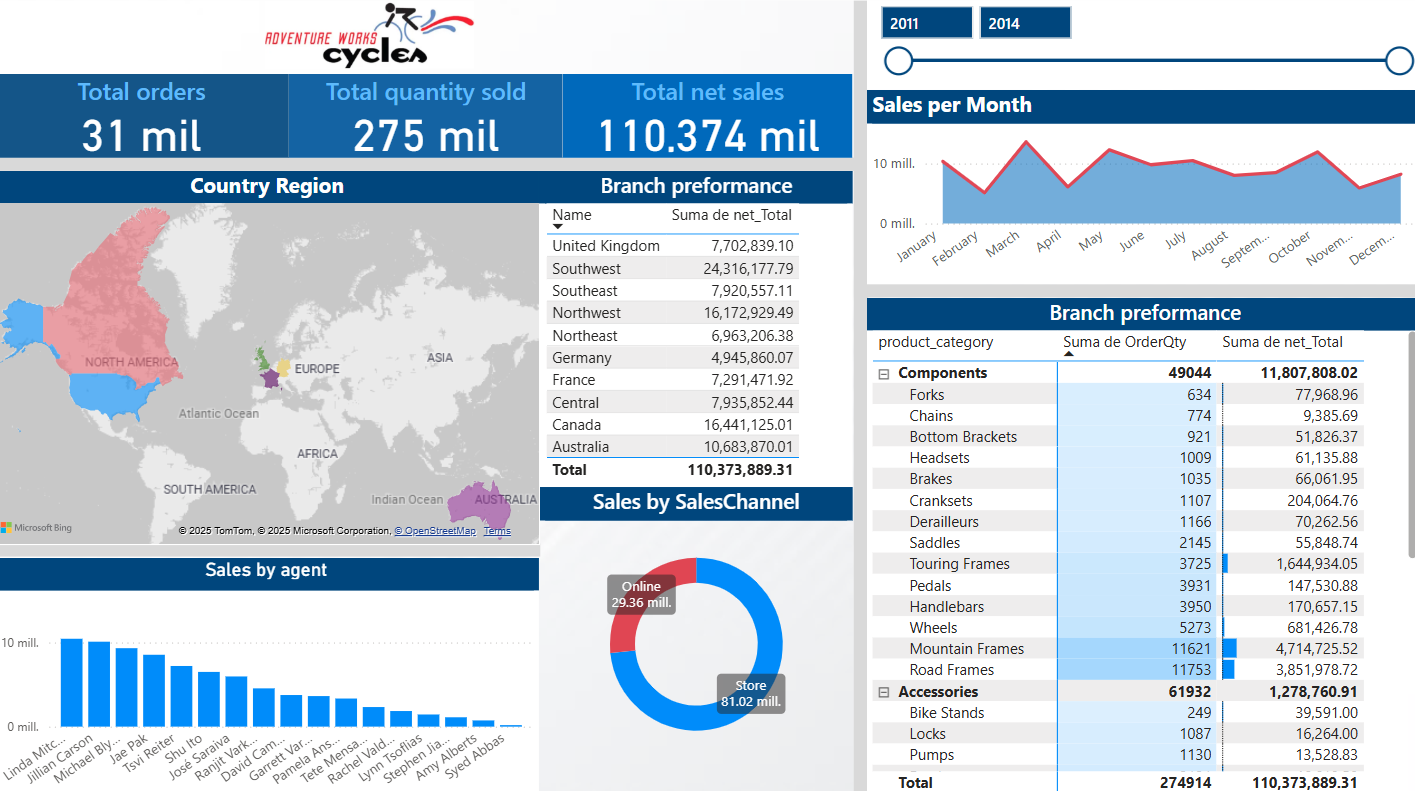

The page's visual inventory and layout, read from the dashboard file:
{"tool":"powerbi","page":{"name":"Página 1","canvas":[1280,720],"ordinal":0},"visuals":[{"type":"image","box":[0,0,1280.2,719.8],"z":0},{"type":"card","title":"Total orders","fields":{"Values":["Count(sales_orders.SalesOrderID)"]},"box":[0,70.8,264.2,75.5],"z":1000},{"type":"card","title":"Total net sales","fields":{"Values":["Sum(sales_orders.net_Total)"]},"box":[509.4,70.8,259.4,75.5],"z":2000},{"type":"filledMap","title":"Country Region","fields":{"Category":["sales_territories.CountryRegionCode"]},"box":[0,157.5,489,335],"z":3000},{"type":"donutChart","title":"Sales by SalesChannel","fields":{"Y":["Sum(sales_orders.net_Total)"],"Category":["sales_orders.SalesChannel"]},"box":[488.7,440.6,280,256.6],"z":4000},{"type":"tableEx","title":"Branch preformance","fields":{"Values":["sales_territories.Name","Sum(sales_orders.net_Total)"]},"box":[488.7,157.5,280,283],"z":5000},{"type":"clusteredColumnChart","title":"Sales by agent","fields":{"Category":["employees.Full_name"],"Y":["Sum(sales_orders.net_Total)"]},"box":[0,503.8,487.7,216],"z":6000},{"type":"pivotTable","title":"Branch preformance","fields":{"Rows":["products.product_category","products.product_subcategory"],"Values":["Sum(sales_orders.OrderQty)","Sum(sales_orders.net_Total)"]},"box":[782.1,271.7,498.1,448.1],"z":7000},{"type":"card","title":"Total quantity sold","fields":{"Values":["Sum(sales_orders.OrderQty)"]},"box":[264.2,70.8,245.3,75.5],"z":8000},{"type":"areaChart","title":"Sales per Month","fields":{"Category":["sales_orders.OrderDate.Variación.Date Hierarchy.Month","sales_orders.OrderDate.Variación.Date Hierarchy.Day"],"Y":["Sum(sales_orders.net_Total)"]},"box":[782.1,84.9,498.1,173.6],"z":9000},{"type":"image","box":[0,0,672.6,70.8],"z":10000},{"type":"slicer","fields":{"Values":["sales_orders.OrderDate.Variación.Date Hierarchy.Year"]},"box":[782.1,0,498.1,84.9],"z":11000}]}

Visuals, with their boxes in screenshot pixels (x1, y1, x2, y2), scaled from the page's 1280x720 canvas onto the 1415x791 screenshot:
image: <region>0, 0, 1414, 790</region>
"Total orders" card: <region>0, 78, 292, 161</region>
"Total net sales" card: <region>563, 78, 850, 161</region>
"Country Region" filledMap: <region>0, 173, 541, 541</region>
"Sales by SalesChannel" donutChart: <region>540, 484, 850, 766</region>
"Branch preformance" tableEx: <region>540, 173, 850, 484</region>
"Sales by agent" clusteredColumnChart: <region>0, 553, 539, 790</region>
"Branch preformance" pivotTable: <region>865, 298, 1414, 790</region>
"Total quantity sold" card: <region>292, 78, 563, 161</region>
"Sales per Month" areaChart: <region>865, 93, 1414, 284</region>
image: <region>0, 0, 744, 78</region>
slicer - sales_orders.OrderDate.Variación.Date Hierarchy.Year: <region>865, 0, 1414, 93</region>
